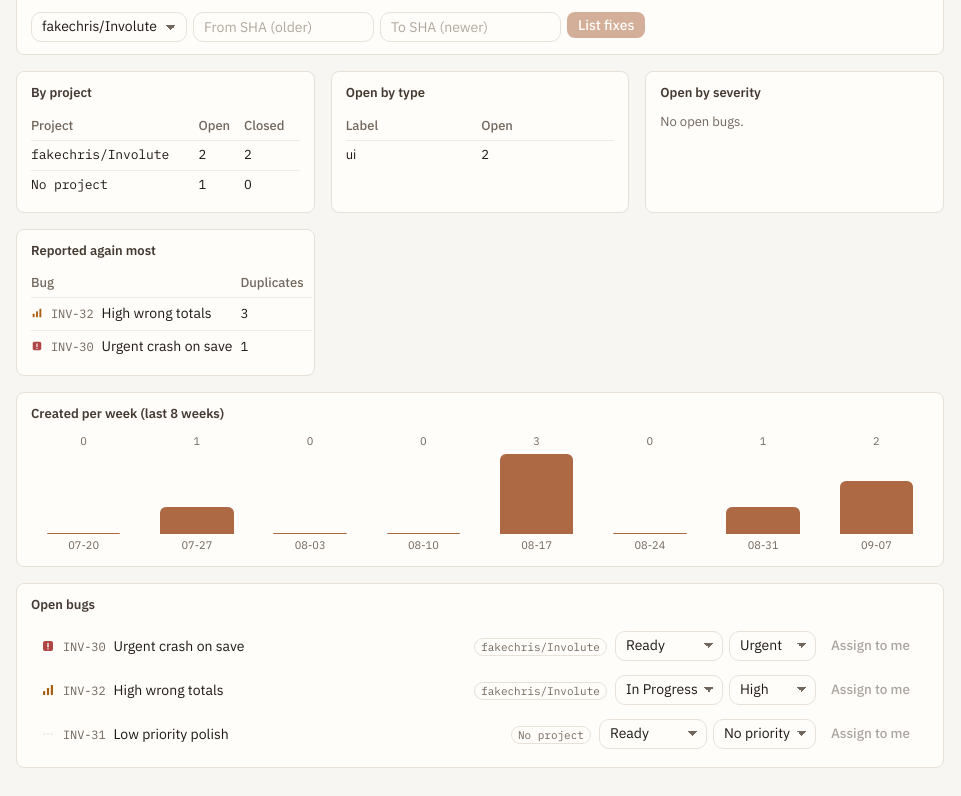
Scenario: BugsPage › shows why the server refused a change, e.g. a bug moved to Backlog
The image size is (961, 796).
(page scrolled)
Select "Backlog" in the dropdown named "Status of INV-30" at (669, 646), box [615,631,723,661]
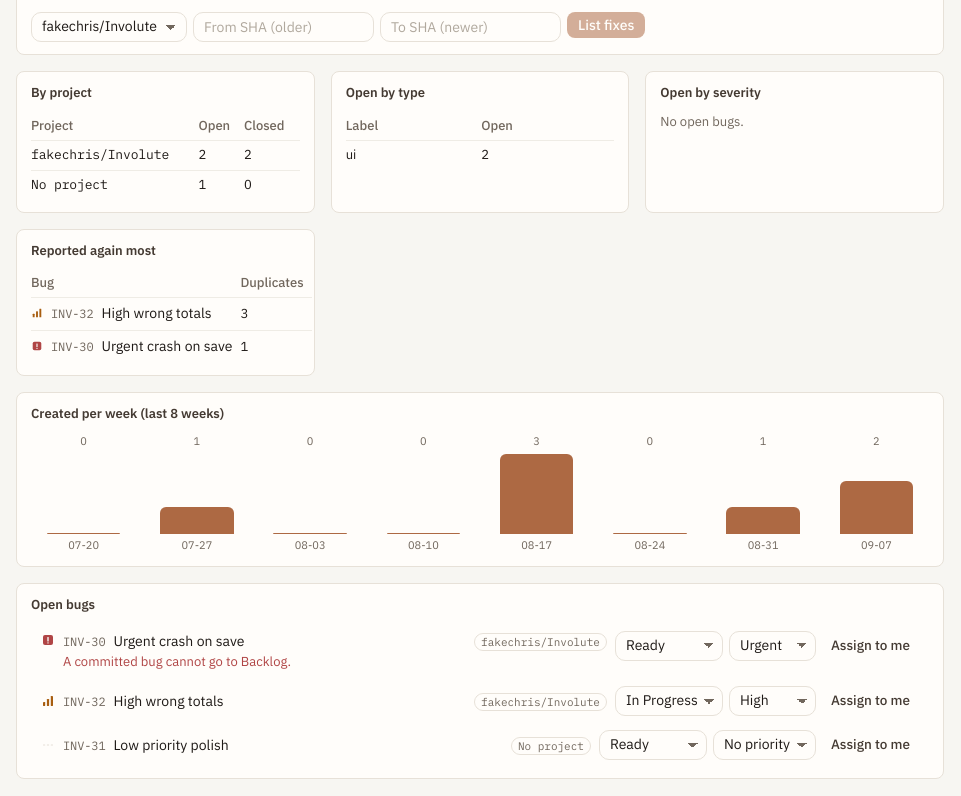
Check: the message reads "A committed bug cannot go to Backlog.", box [63,653,291,670]
